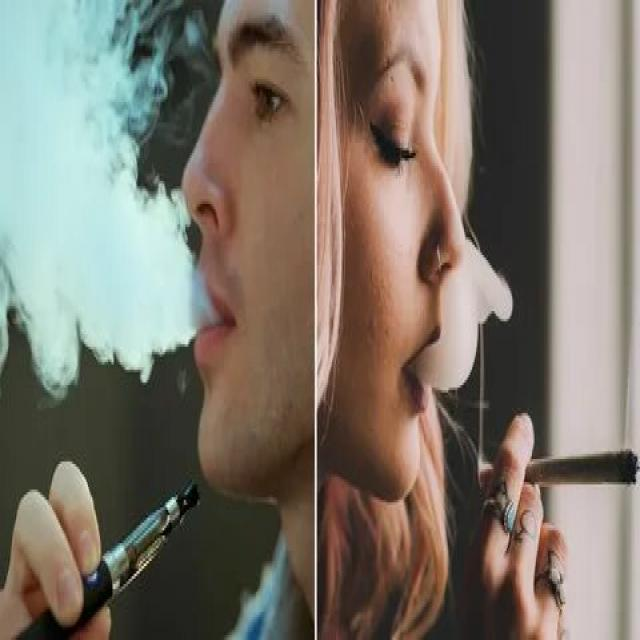cigarette: (0, 464, 204, 640), (473, 444, 640, 502)
